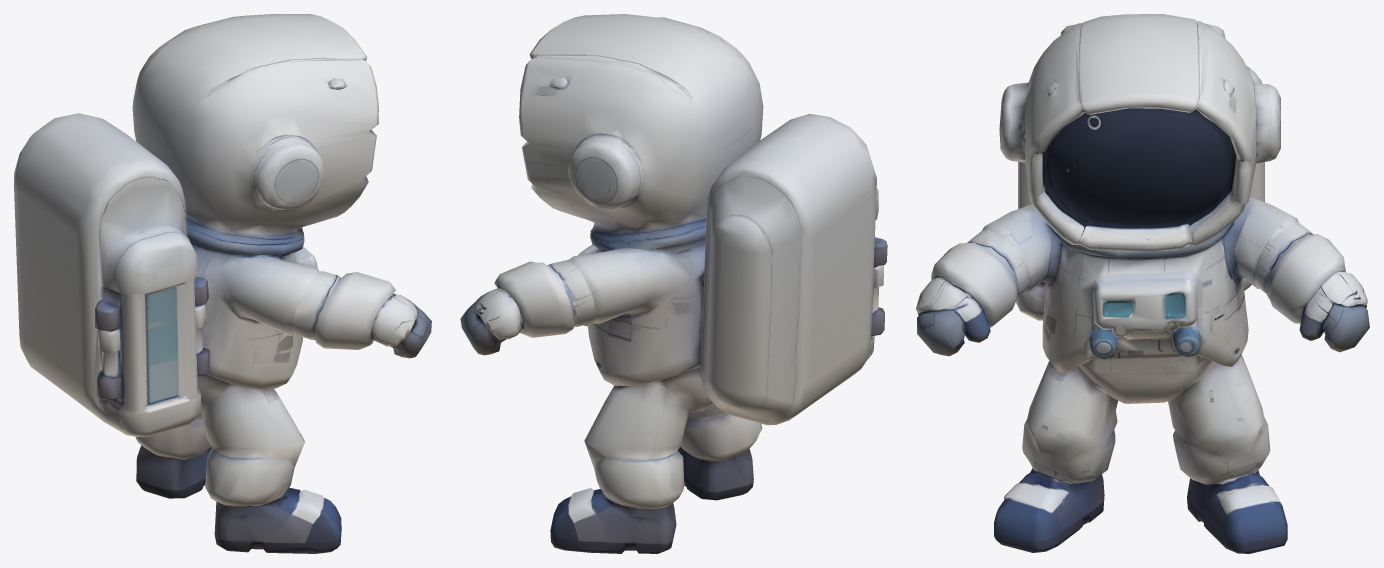
The model's file is stylized-astronaut.glb.
3 views of the same model, side by side, from view 1: azimuth 30°, elevation 25°; view 2: azimuth 150°, elevation 25°; view 3: azimuth 270°, elevation 25° (orthographic). The views are drawn at different scales.
Parts seen in each view (by area): view 1: tripo_node_04e3242b-079a-495e-b510-4bc1764a7897; view 2: tripo_node_04e3242b-079a-495e-b510-4bc1764a7897; view 3: tripo_node_04e3242b-079a-495e-b510-4bc1764a7897.
Part boxes in pixels (bbox=[...]): tripo_node_04e3242b-079a-495e-b510-4bc1764a7897: bbox=[14, 14, 431, 553]; tripo_node_04e3242b-079a-495e-b510-4bc1764a7897: bbox=[460, 14, 887, 553]; tripo_node_04e3242b-079a-495e-b510-4bc1764a7897: bbox=[916, 14, 1369, 553].
Bounding box in the file's own units: 0.6543 × 0.998 × 0.8184.
1 material, 1 textured.
